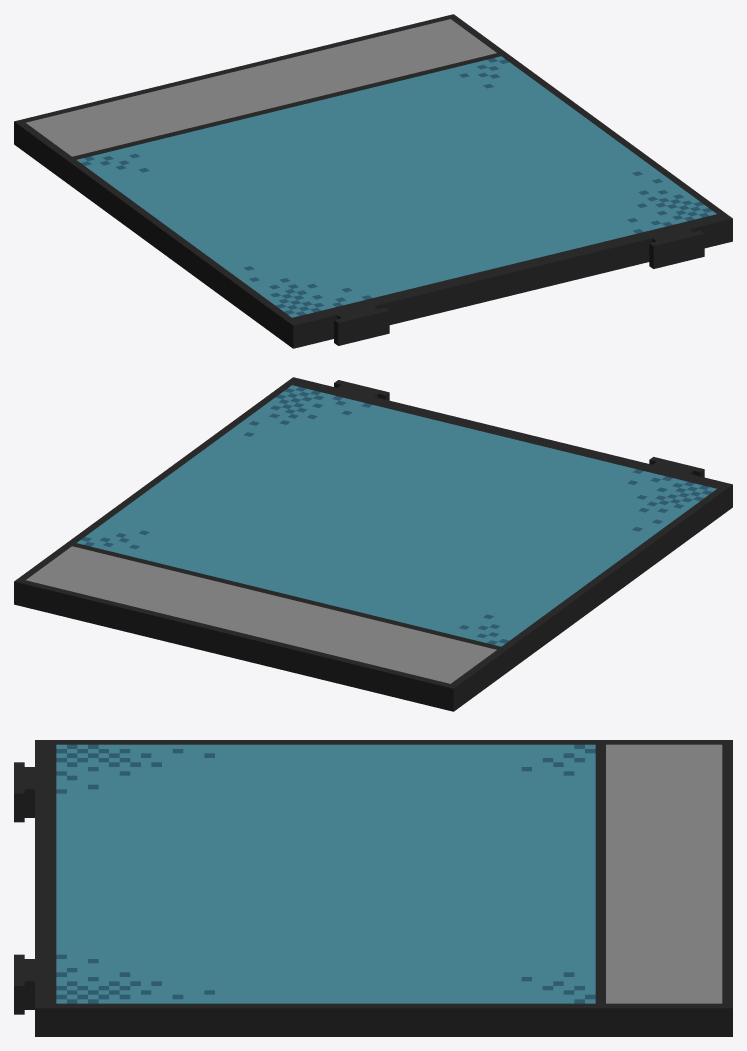
Rendered from partition_back.obj.
The picture shows the model from 3 angles, top to bottom: view 1: azimuth 30°, elevation 25°; view 2: azimuth 150°, elevation 25°; view 3: azimuth 270°, elevation 25°; orthographic projection. The views are drawn at different scales.
Size of the model in its own units: 60 by 3 by 68.
1 material, 1 textured.
